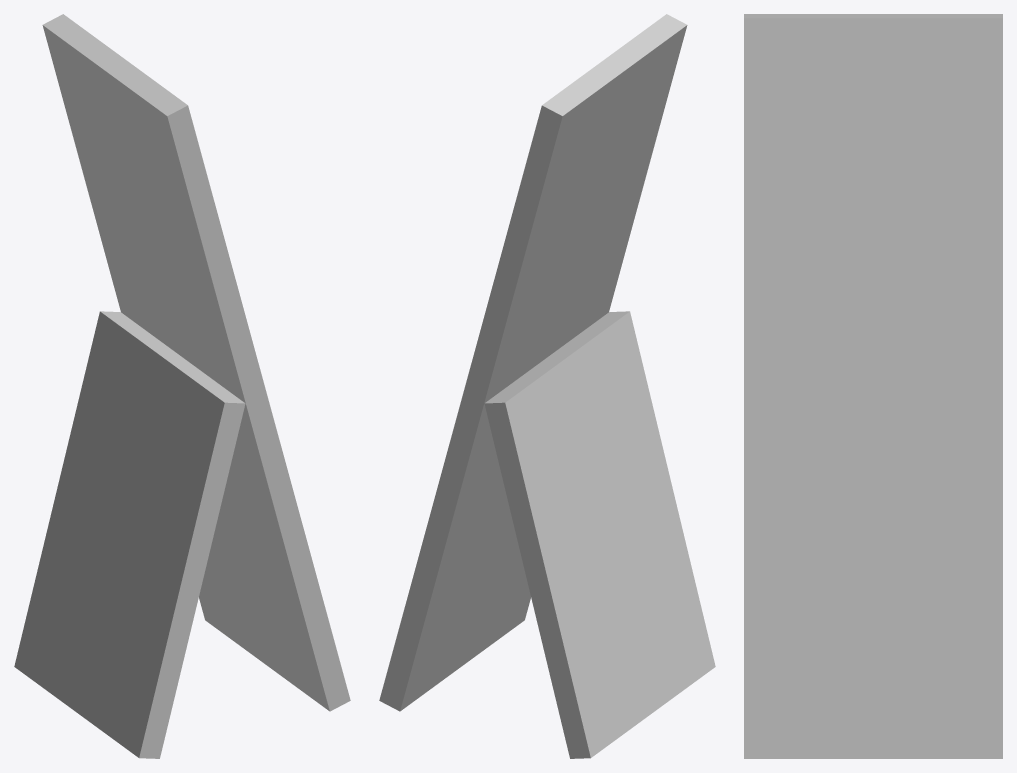
The model's file is mirror.FBX.
3 renders of one model, left to right at view 1: azimuth 30°, elevation 25°; view 2: azimuth 150°, elevation 25°; view 3: azimuth 270°, elevation 25°, orthographic. The views are drawn at different scales.
Visible parts, largest first — view 1: mirror; view 2: mirror; view 3: mirror.
Boxes of the visible parts, x1,y1,x2,y2 form: mirror: (14,14,350,758); mirror: (379,14,715,758); mirror: (744,14,1002,758).
Bounding box in the file's own units: 8.42 × 24.59 × 8.6.
